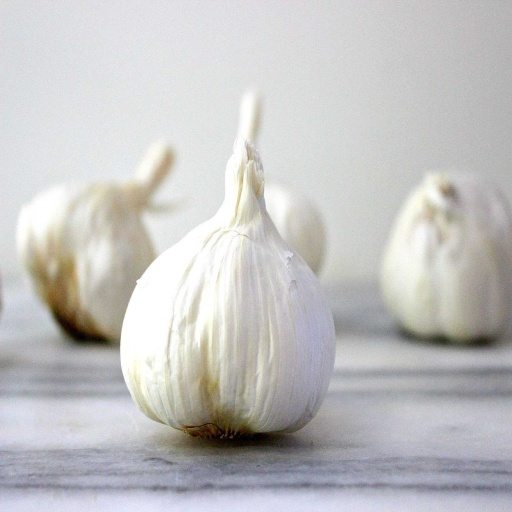Knoblauch: (119, 91, 337, 439)
